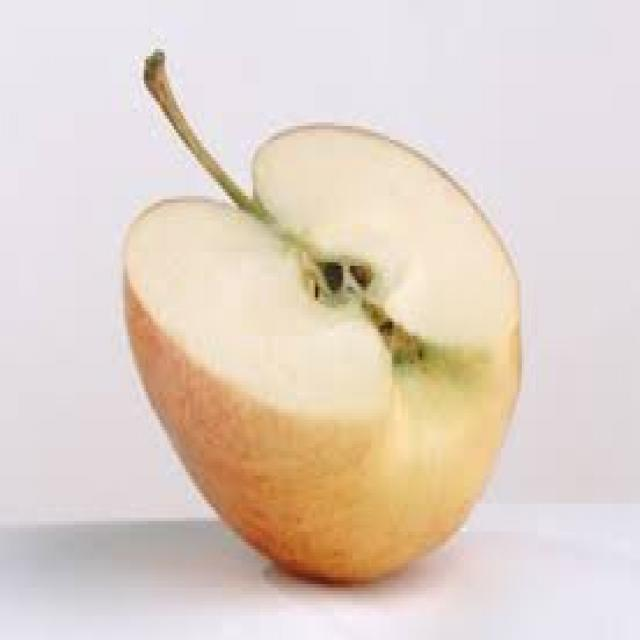Apple: (122, 122, 523, 591)
